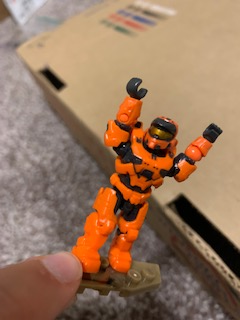spartan: (71, 76, 225, 270)
up: (97, 75, 223, 194)
